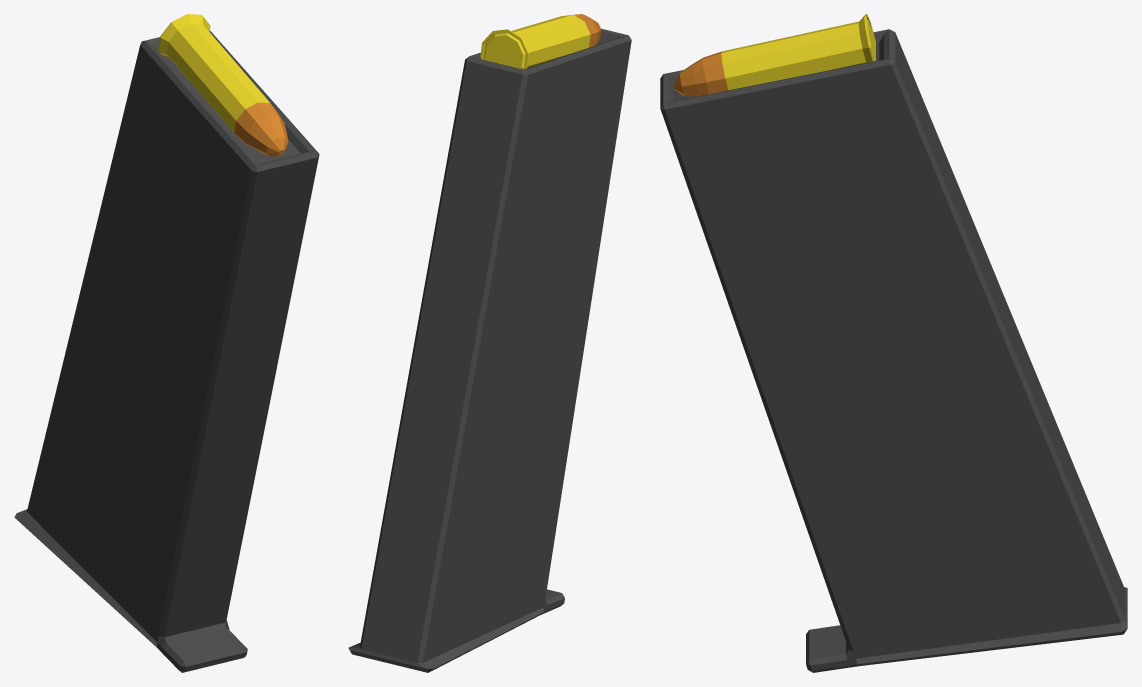
Rendered from ammo pistol (2).fbx.
3 views of the same model, side by side, from view 1: azimuth 30°, elevation 25°; view 2: azimuth 150°, elevation 25°; view 3: azimuth 270°, elevation 25° (orthographic). The views are drawn at different scales.
Visible parts, largest first — view 1: Cube.017, Cylinder.014; view 2: Cube.017, Cylinder.014; view 3: Cube.017, Cylinder.014.
Boxes of the visible parts, x1,y1,x2,y2 form: Cube.017: (14,31,319,672); Cylinder.014: (158,14,288,156); Cube.017: (348,28,631,672); Cylinder.014: (480,14,601,69); Cube.017: (660,29,1127,672); Cylinder.014: (673,14,875,96).
Bounding box in the file's own units: 15.3 × 100 × 66.14.
